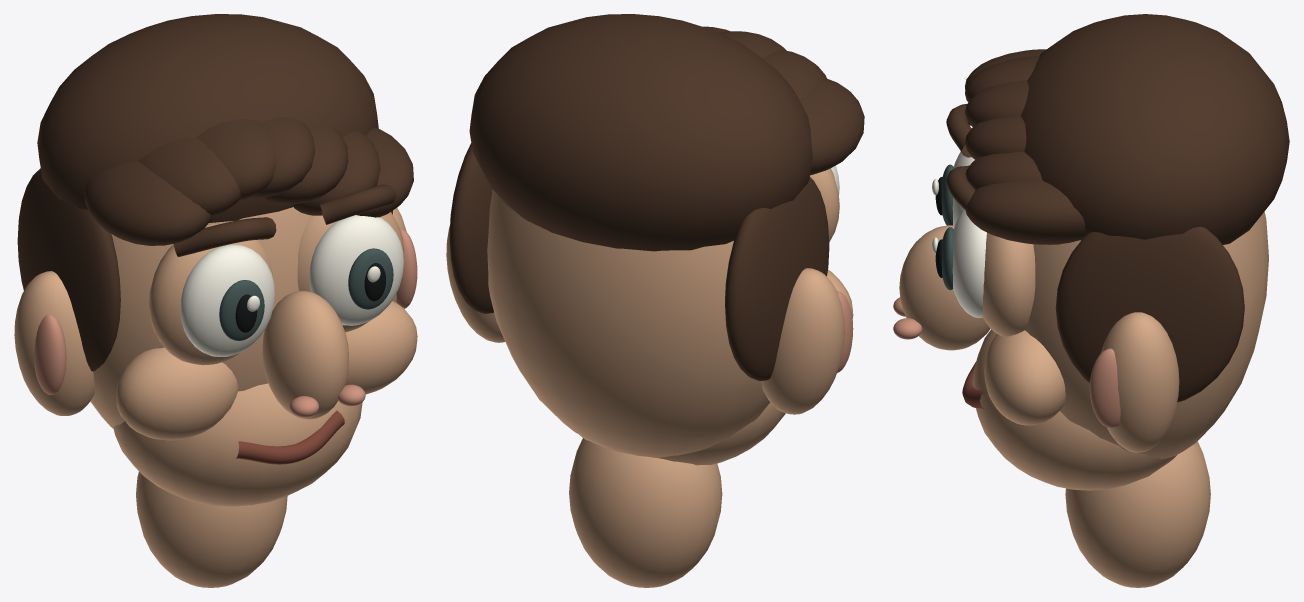
The model's file is artist-male-head.glb.
3 views of the same model, side by side, from view 1: azimuth 30°, elevation 25°; view 2: azimuth 150°, elevation 25°; view 3: azimuth 270°, elevation 25° (orthographic).
Parts seen in each view (by area): view 1: Bravo Hair, Bravo Skin.002, Bravo Eye White.002, Bravo Cheeks.002, Bravo Iris.002, Bravo Mouth.002, Bravo Pupil.002; view 2: Bravo Hair, Bravo Skin.002, Bravo Cheeks.002; view 3: Bravo Hair, Bravo Skin.002, Bravo Eye White.002, Bravo Cheeks.002, Bravo Iris.002.
Part boxes in pixels (x1=…): Bravo Hair: x1=17, y1=14, x2=413, y2=371; Bravo Skin.002: x1=14, y1=207, x2=417, y2=587; Bravo Eye White.002: x1=180, y1=215, x2=403, y2=356; Bravo Cheeks.002: x1=34, y1=228, x2=417, y2=417; Bravo Iris.002: x1=219, y1=248, x2=393, y2=340; Bravo Mouth.002: x1=236, y1=410, x2=344, y2=464; Bravo Pupil.002: x1=235, y1=263, x2=385, y2=332; Bravo Hair: x1=449, y1=14, x2=864, y2=380; Bravo Skin.002: x1=446, y1=168, x2=853, y2=587; Bravo Cheeks.002: x1=837, y1=291, x2=853, y2=372; Bravo Hair: x1=946, y1=14, x2=1289, y2=402; Bravo Skin.002: x1=899, y1=211, x2=1268, y2=587; Bravo Eye White.002: x1=932, y1=151, x2=986, y2=317; Bravo Cheeks.002: x1=893, y1=297, x2=1120, y2=428; Bravo Iris.002: x1=941, y1=164, x2=953, y2=290.
Bounding box in the file's own units: 0.3637 × 0.495 × 0.327.
